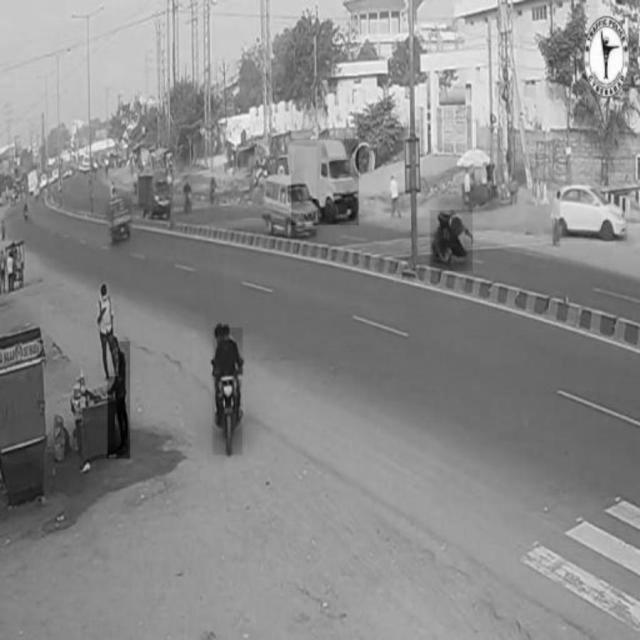accident: (431, 210, 473, 271)
person: (107, 341, 131, 459), (98, 284, 118, 376)
vehicle: (292, 139, 359, 225), (554, 187, 628, 241), (213, 327, 243, 455), (267, 173, 317, 237), (109, 201, 131, 237)
